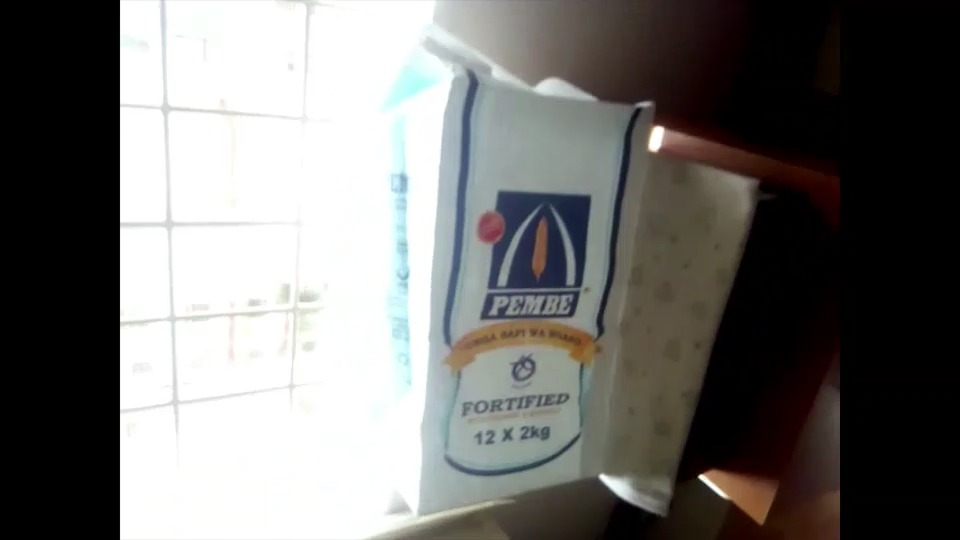wheat_flour_blue_label: (382, 46, 603, 507)
